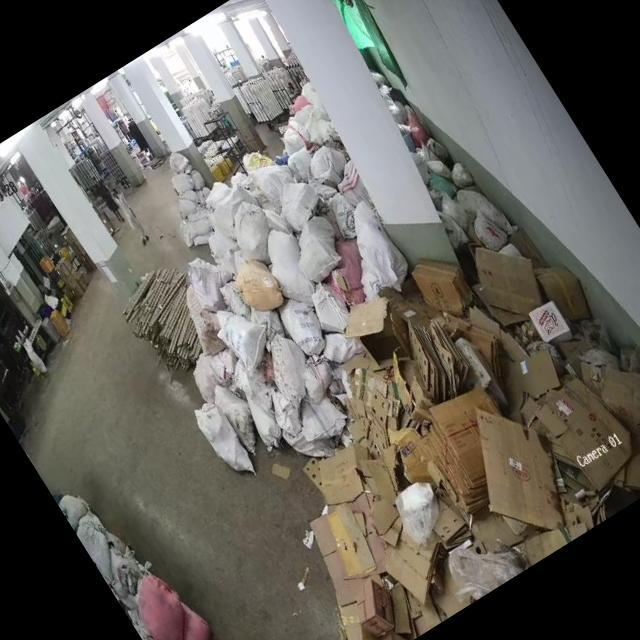person: (108, 184, 152, 246), (89, 172, 128, 224)
